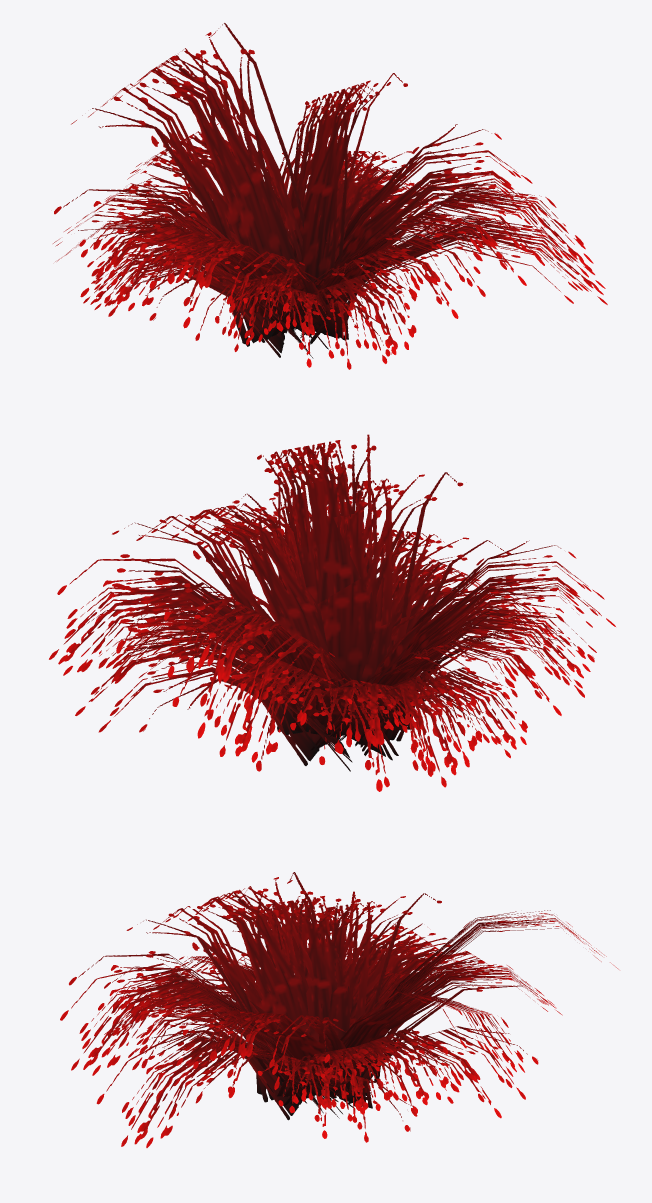
Rendered from bush_snowcap_grass_a.glb.
The picture shows the model from 3 angles, top to bottom: view 1: azimuth 30°, elevation 25°; view 2: azimuth 150°, elevation 25°; view 3: azimuth 270°, elevation 25°; orthographic projection. The views are drawn at different scales.
Visible parts, largest first — view 1: bush_snowcap_grass_a; view 2: bush_snowcap_grass_a; view 3: bush_snowcap_grass_a.
Part boxes in pixels (x1,y1,x2,y2): bush_snowcap_grass_a: (53,23,607,369); bush_snowcap_grass_a: (49,434,615,791); bush_snowcap_grass_a: (60,872,618,1147).
Size of the model in its own units: 1.53 by 0.6676 by 1.69.
Materials: 1 (1 with a texture image).
